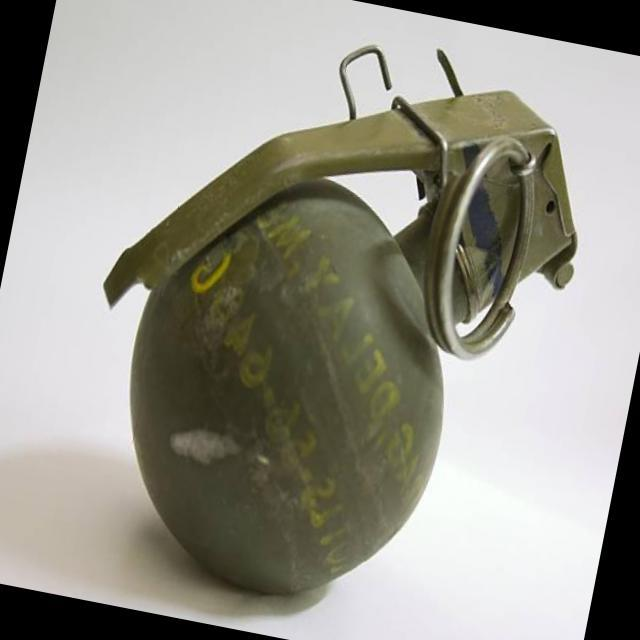grenade: (52, 0, 618, 640)
